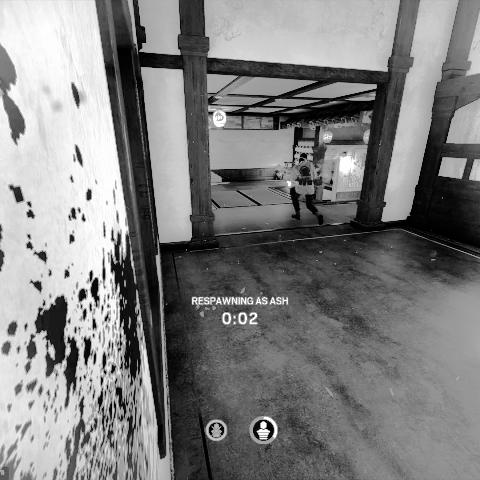Character: (289, 152, 325, 227), (314, 163, 327, 182)
Head: (298, 152, 309, 164), (314, 163, 322, 172)
